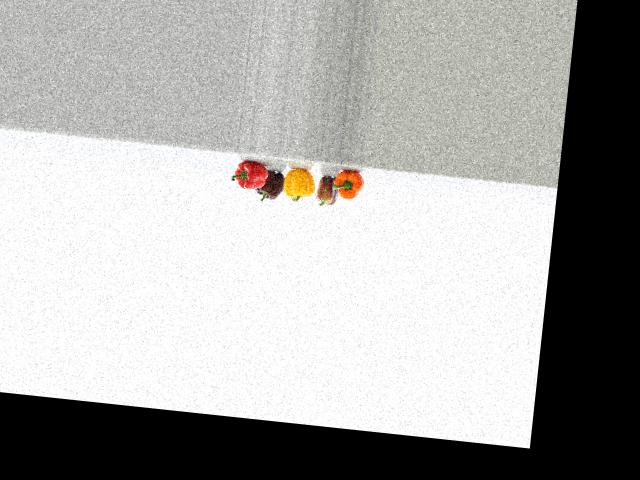bell_pepper: (330, 165, 366, 210)
